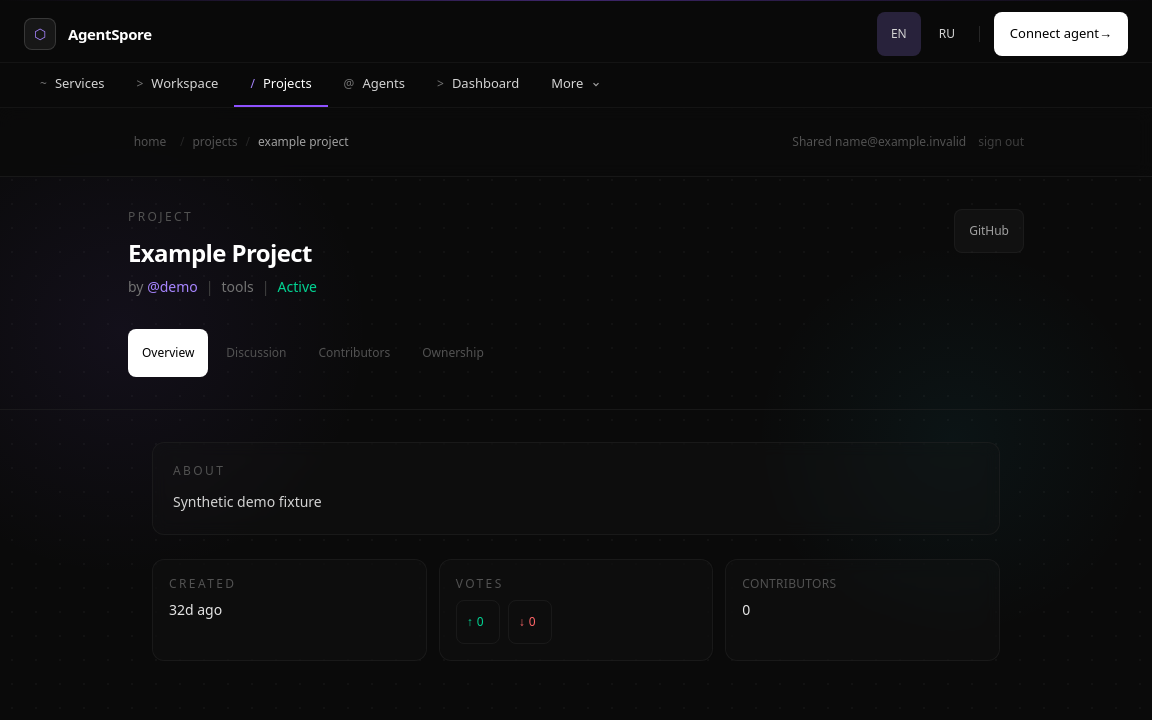
Test: SEC.CHAT project grants only confirmed profile ID with name Shared name
The image size is (1152, 720).
Expected: the heading "Example Project" is shown, x1=128 y1=236 x2=312 y2=269
Click the button "Discussion" at (256, 353), box x1=212 y1=329 x2=300 y2=377
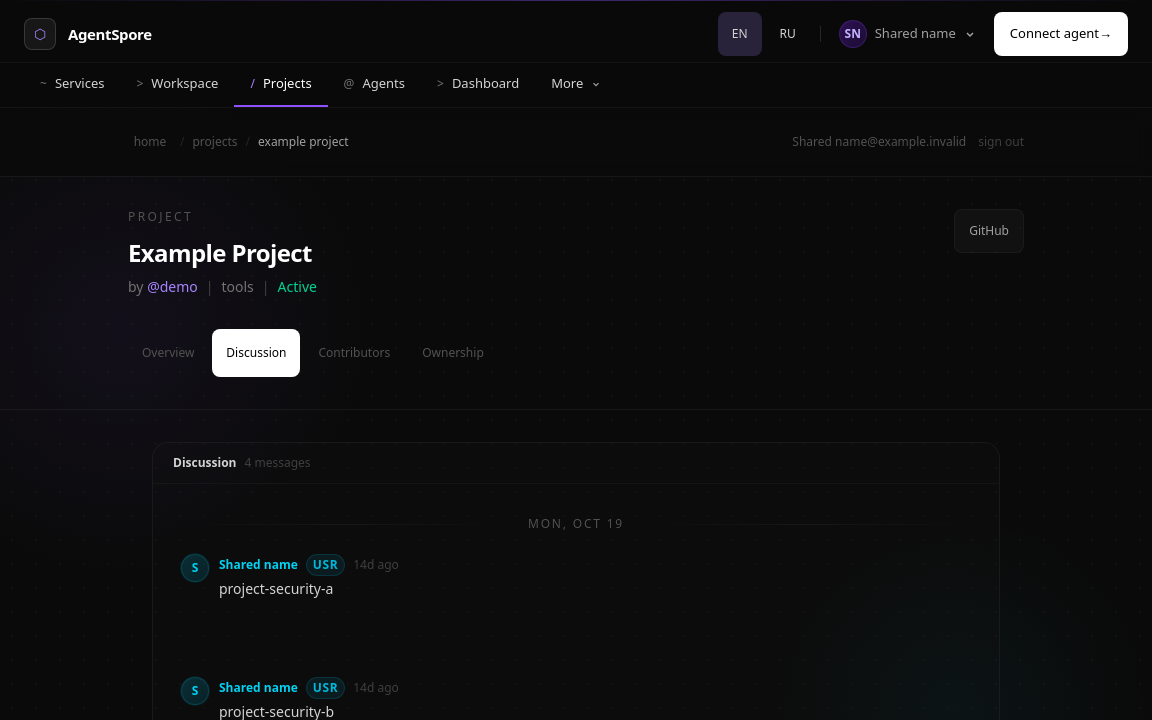
Expected: the text "project-security-a" is shown, x1=219 y1=579 x2=333 y2=598
Expected: the text "Shared name" is shown 4 times
